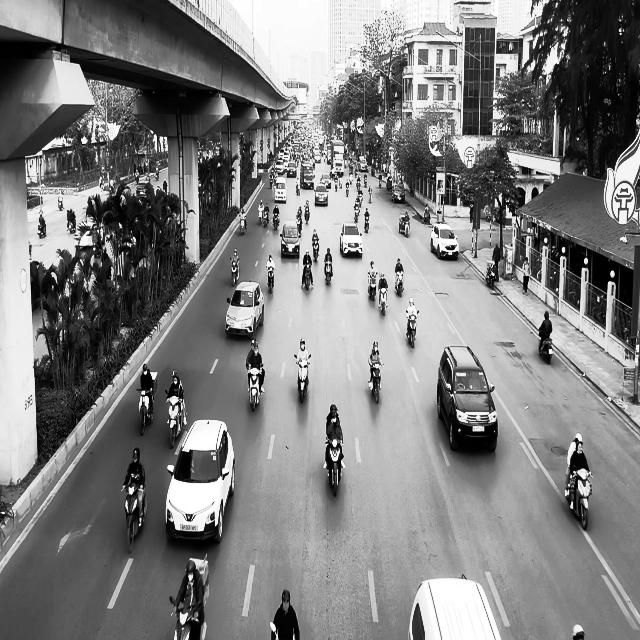bus: (331, 140, 345, 176)
car: (166, 418, 236, 544), (437, 344, 498, 452), (408, 575, 502, 639), (225, 280, 265, 337), (430, 222, 459, 260), (340, 222, 363, 257), (280, 220, 301, 258), (274, 177, 288, 203), (315, 183, 328, 206), (392, 184, 405, 202), (320, 172, 332, 188)
motorbike: (121, 478, 148, 553), (565, 466, 593, 530), (170, 596, 202, 640), (137, 372, 158, 436), (165, 388, 186, 448), (325, 437, 345, 497), (294, 353, 312, 403), (247, 364, 264, 412), (369, 362, 383, 403), (538, 330, 554, 364), (406, 310, 420, 348), (486, 260, 498, 288), (379, 285, 389, 316), (230, 256, 240, 286), (368, 272, 378, 300), (324, 260, 334, 284), (395, 270, 404, 296), (304, 263, 312, 290), (266, 266, 274, 292), (312, 238, 320, 262), (38, 220, 46, 238), (273, 210, 280, 230), (240, 214, 247, 234), (364, 214, 370, 233), (305, 204, 310, 224)
